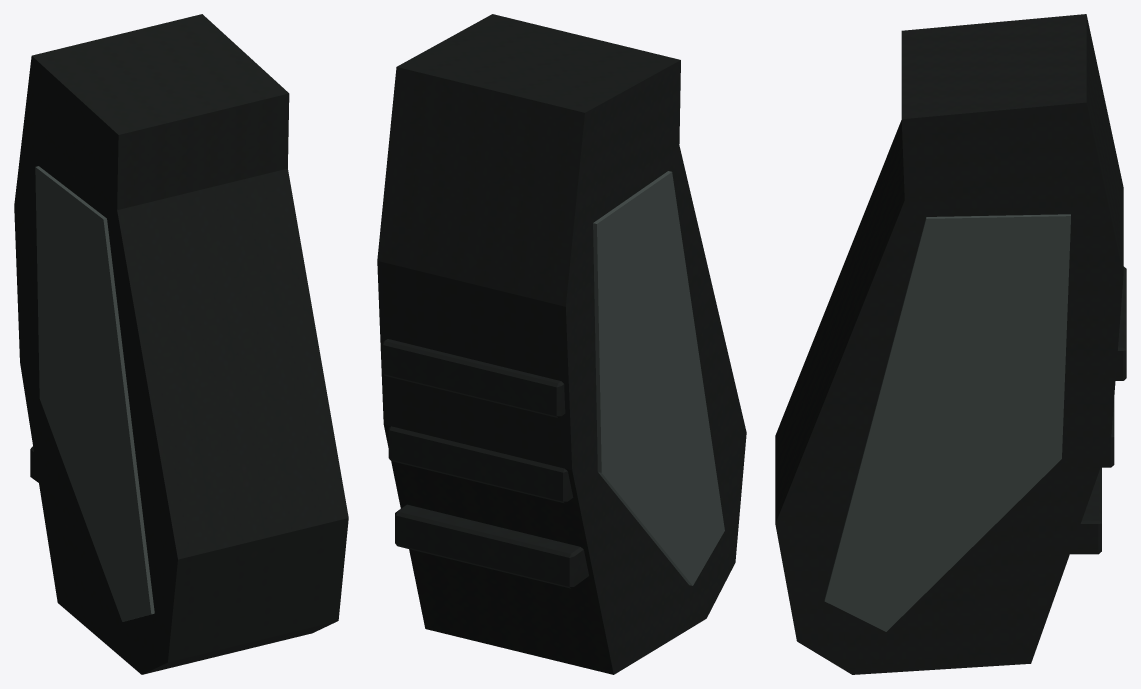
File: pm_rubber.glb
3 views of the same model, side by side, from view 1: azimuth 30°, elevation 25°; view 2: azimuth 150°, elevation 25°; view 3: azimuth 270°, elevation 25° (orthographic). The views are drawn at different scales.
Parts seen in each view (by area): view 1: pm_rubber_item_profile, pm_rubber_item_profile.001, pm_rubber_molded_panel; view 2: pm_rubber_item_profile, pm_rubber_item_profile.001, pm_rubber_molded_panel; view 3: pm_rubber_item_profile, pm_rubber_item_profile.001, pm_rubber_molded_panel.
Part boxes in pixels (bbox=[...]): pm_rubber_item_profile: bbox=[16, 32, 342, 671]; pm_rubber_item_profile.001: bbox=[14, 14, 348, 674]; pm_rubber_molded_panel: bbox=[35, 166, 154, 621]; pm_rubber_item_profile: bbox=[382, 18, 743, 667]; pm_rubber_item_profile.001: bbox=[377, 14, 746, 674]; pm_rubber_molded_panel: bbox=[593, 171, 724, 585]; pm_rubber_item_profile: bbox=[775, 25, 1126, 662]; pm_rubber_item_profile.001: bbox=[775, 14, 1123, 674]; pm_rubber_molded_panel: bbox=[824, 214, 1070, 631].
Bounding box in the file's own units: 0.0708 × 0.205 × 0.114.
Materials: 2 (1 with a texture image).
